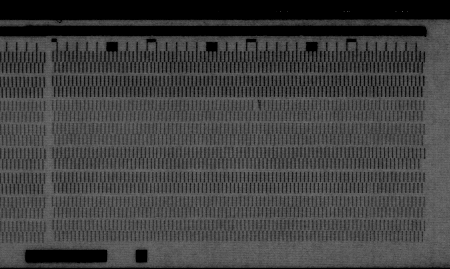Broken hole: (417, 160, 427, 172)
Oblique printing: (251, 98, 263, 110)
